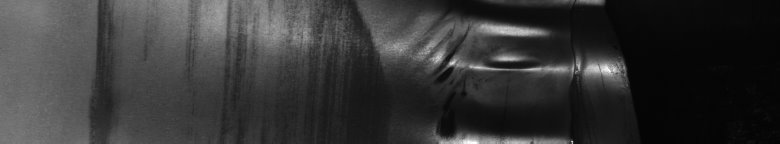ke: (320, 0, 664, 144)
